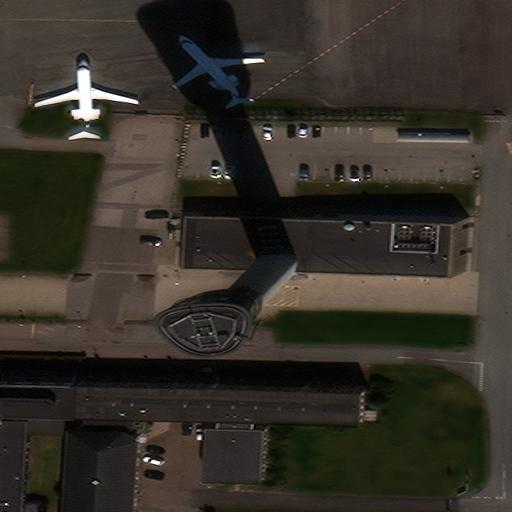Medium Civil Transport: (35, 58, 138, 139), (171, 34, 262, 104)
